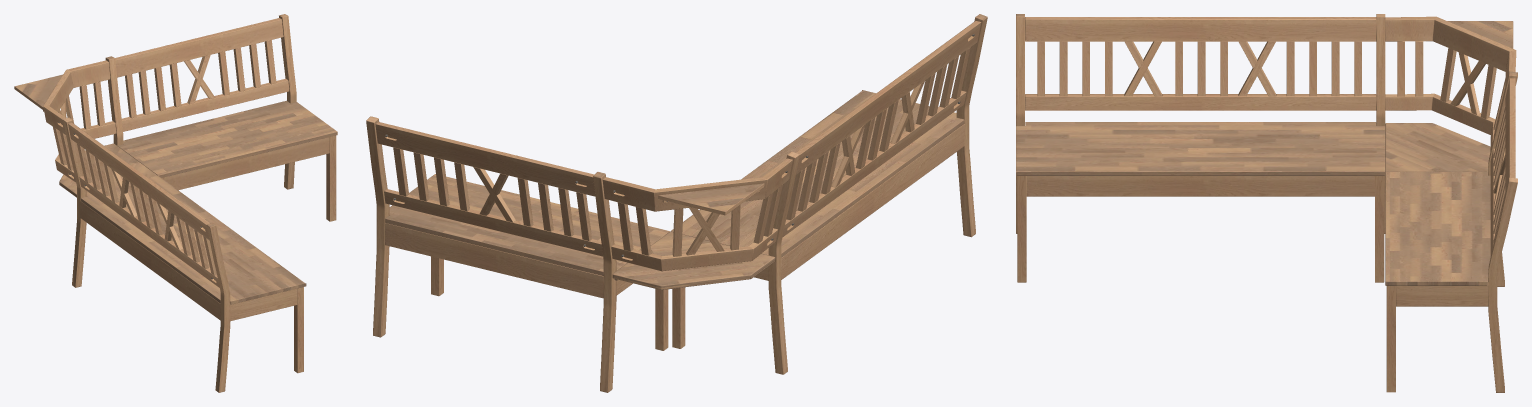
File: abo-B07SMJY5GQ.glb
The picture shows the model from 3 angles, left to right: view 1: azimuth 30°, elevation 25°; view 2: azimuth 150°, elevation 25°; view 3: azimuth 270°, elevation 25°; orthographic projection. The views are drawn at different scales.
Bounding box in the file's own units: 1.54 × 0.902 × 1.94.
Materials: 1 (1 with a texture image).
